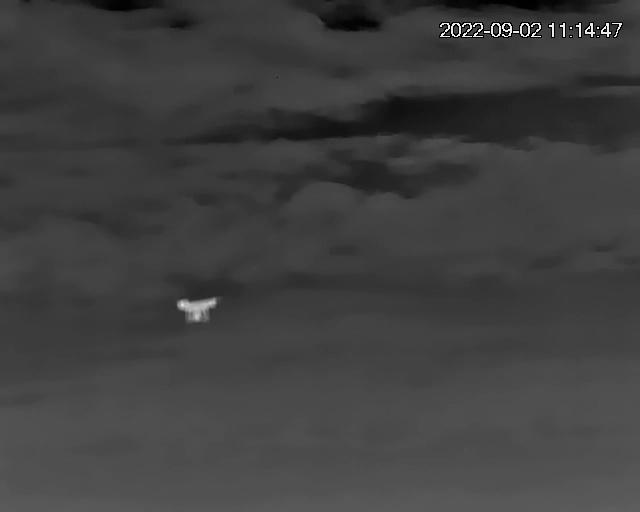DJI-Phantom: (176, 295, 222, 325)
